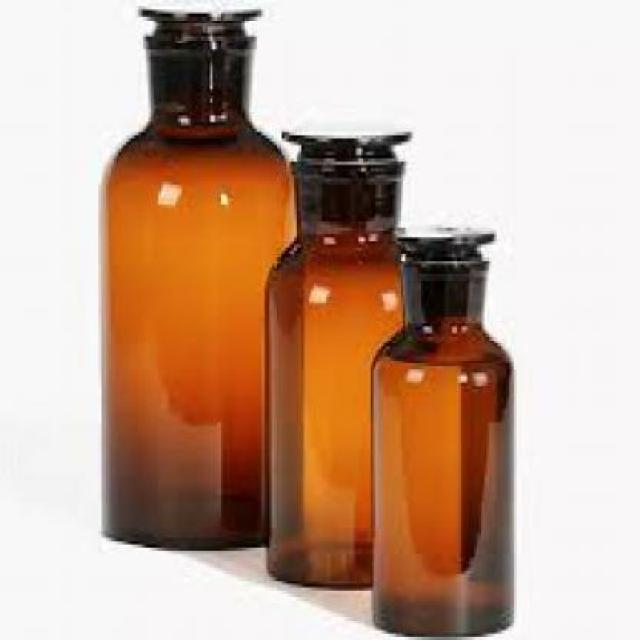kaca: (98, 3, 297, 548), (260, 129, 415, 588), (368, 225, 514, 637)
